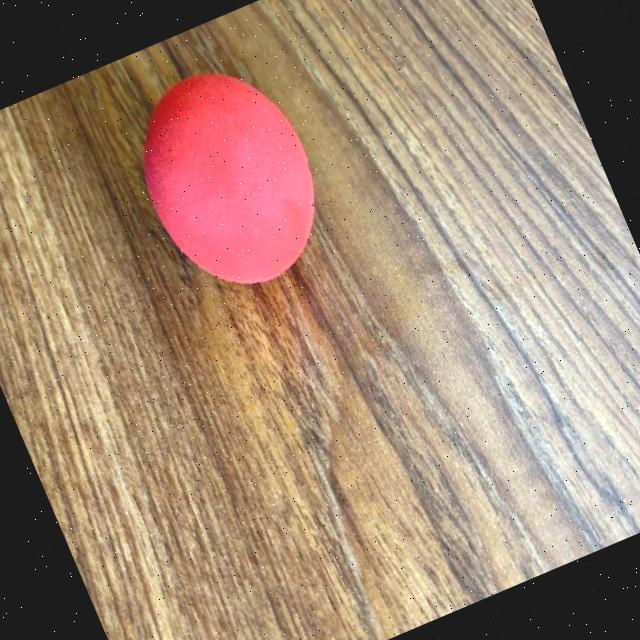ping-pong-ball: (110, 42, 347, 310)
